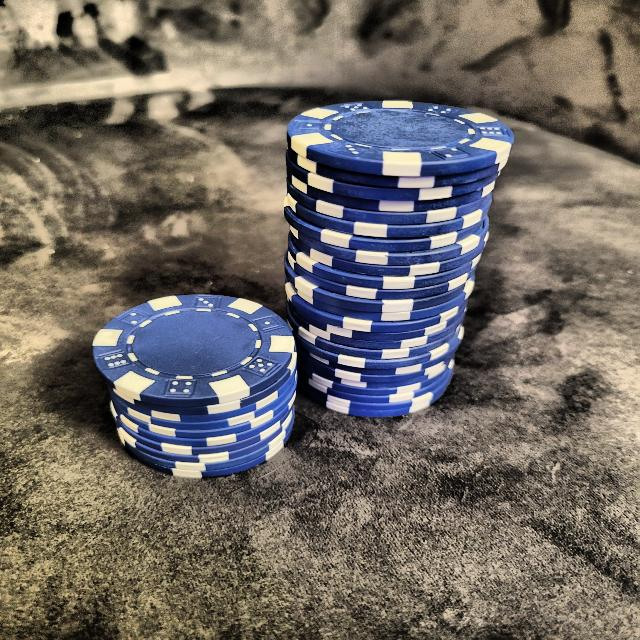Chip: (268, 91, 512, 435), (94, 265, 306, 495)
